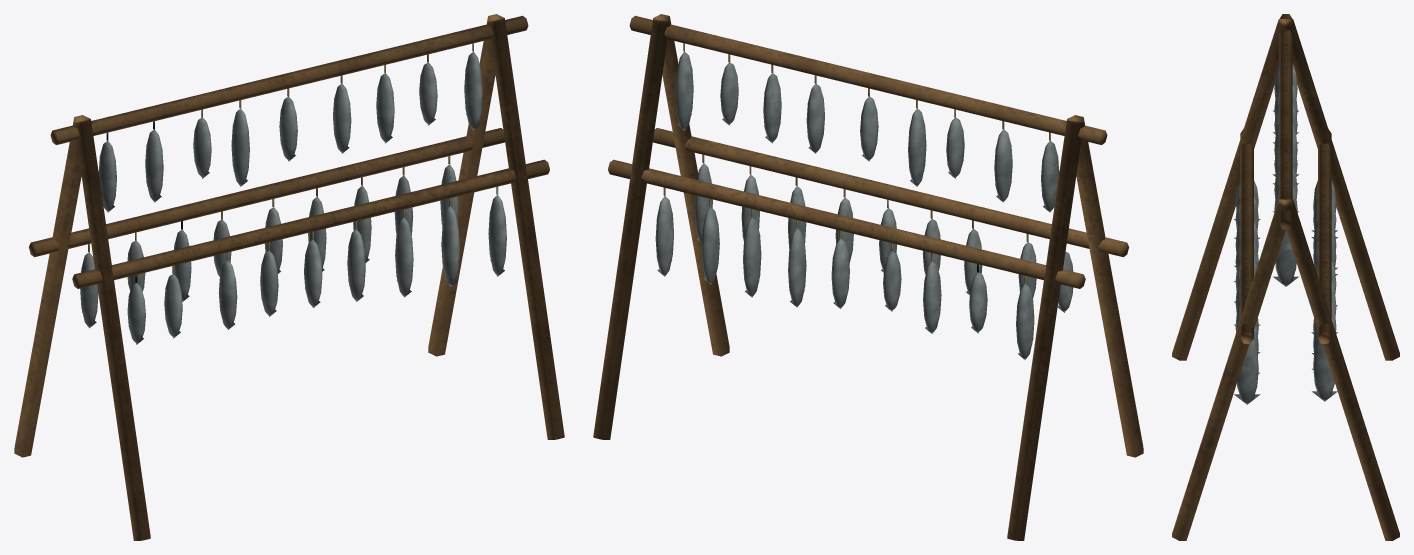
Rendered from fish_rack.obj.
The picture shows the model from 3 angles, left to right: view 1: azimuth 30°, elevation 25°; view 2: azimuth 150°, elevation 25°; view 3: azimuth 270°, elevation 25°; orthographic projection. The views are drawn at different scales.
Visible parts, largest first — view 1: part0, part2; view 2: part0, part2; view 3: part0, part2.
Part boxes in pixels (bbox=[...]): part0: bbox=[14, 14, 564, 540]; part2: bbox=[80, 51, 506, 344]; part0: bbox=[593, 14, 1143, 540]; part2: bbox=[655, 51, 1073, 359]; part0: bbox=[1172, 14, 1399, 540]; part2: bbox=[1234, 64, 1337, 404].
Bounding box in the file's own units: 2.5 × 1.92 × 1.17.
